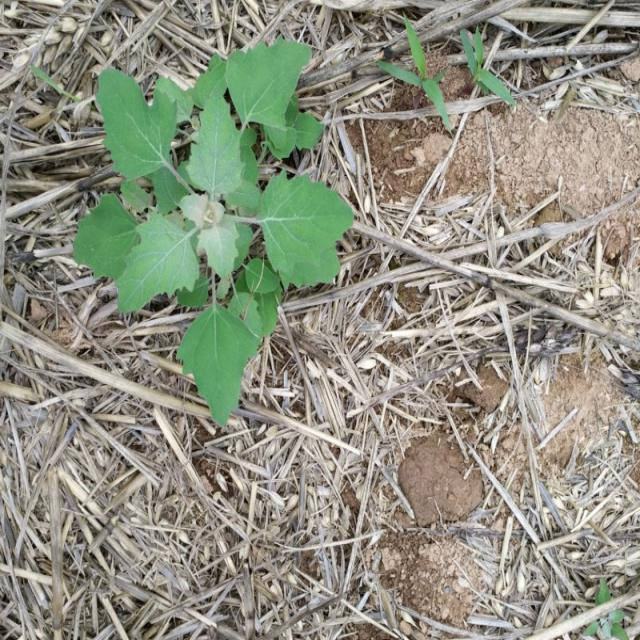ca: (74, 44, 352, 424)
